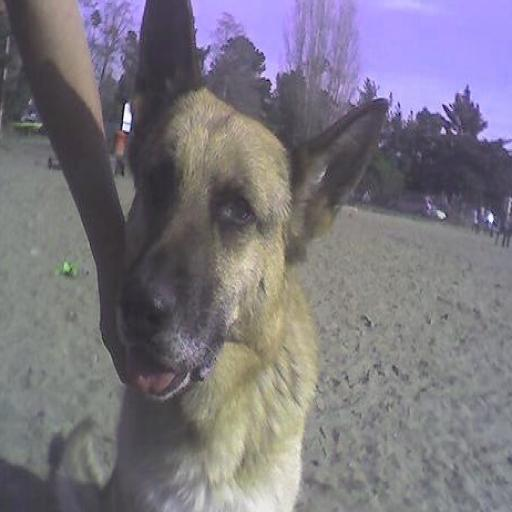dog_face: (113, 0, 385, 391)
